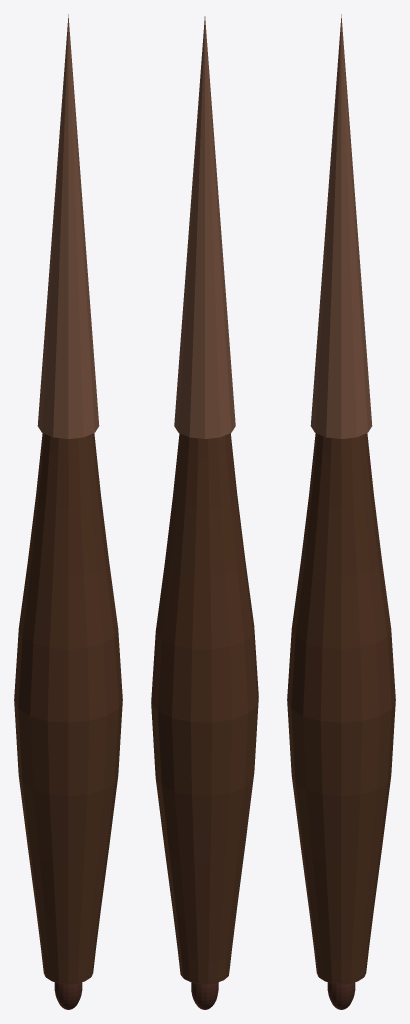
Rendered from Wand 126.glb.
The picture shows the model from 3 angles, left to right: view 1: azimuth 90°, elevation 25°; view 2: azimuth 210°, elevation 25°; view 3: azimuth 270°, elevation 25°; orthographic projection.
Visible parts, largest first — view 1: GeneratedWand; view 2: GeneratedWand; view 3: GeneratedWand.
Part boxes in pixels (<box>): GeneratedWand: <box>14,14,122,1009</box>; GeneratedWand: <box>151,16,258,1009</box>; GeneratedWand: <box>287,14,395,1009</box>.
Bounding box in the file's own units: 0.0499 × 0.5034 × 0.0499.
